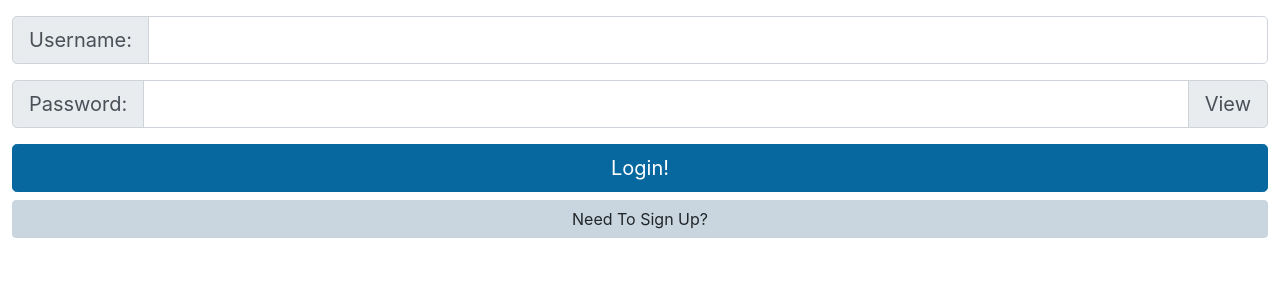
Submit fails with invalid creds
Type "John Smith" into the field labelled "Username:" at (708, 40), box [148,16,1268,64]
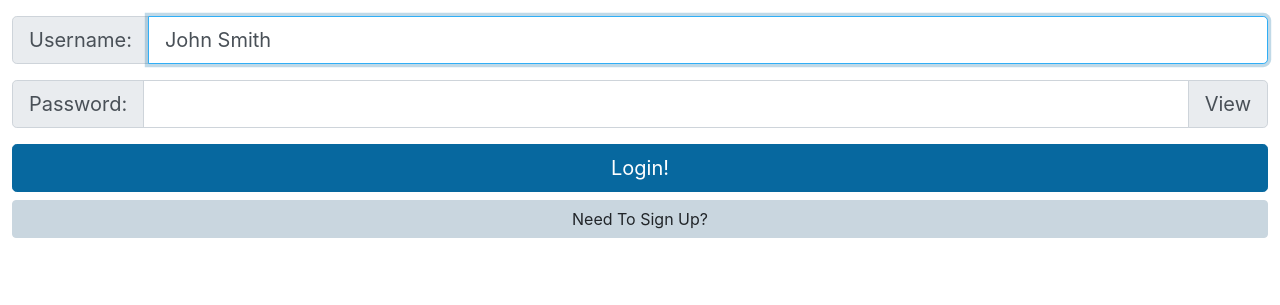
Type "BAD PASSWORD" into the password field labelled "Password:" at (666, 104), box [143,80,1189,128]
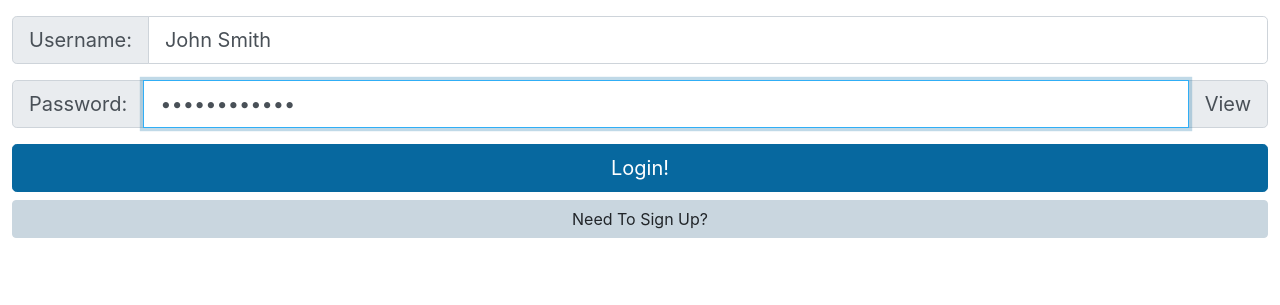
Click the button "Login!" at (640, 168), box [12,144,1268,192]
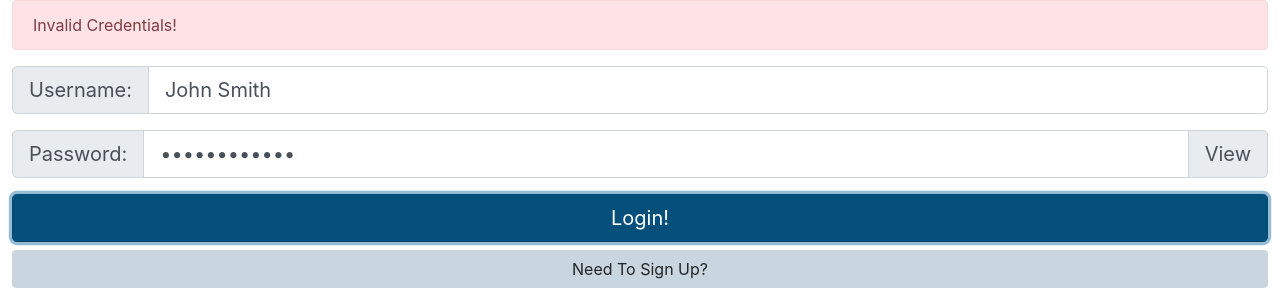
Now the text "Invalid Credentials!" is shown, box [12,0,1268,50]
